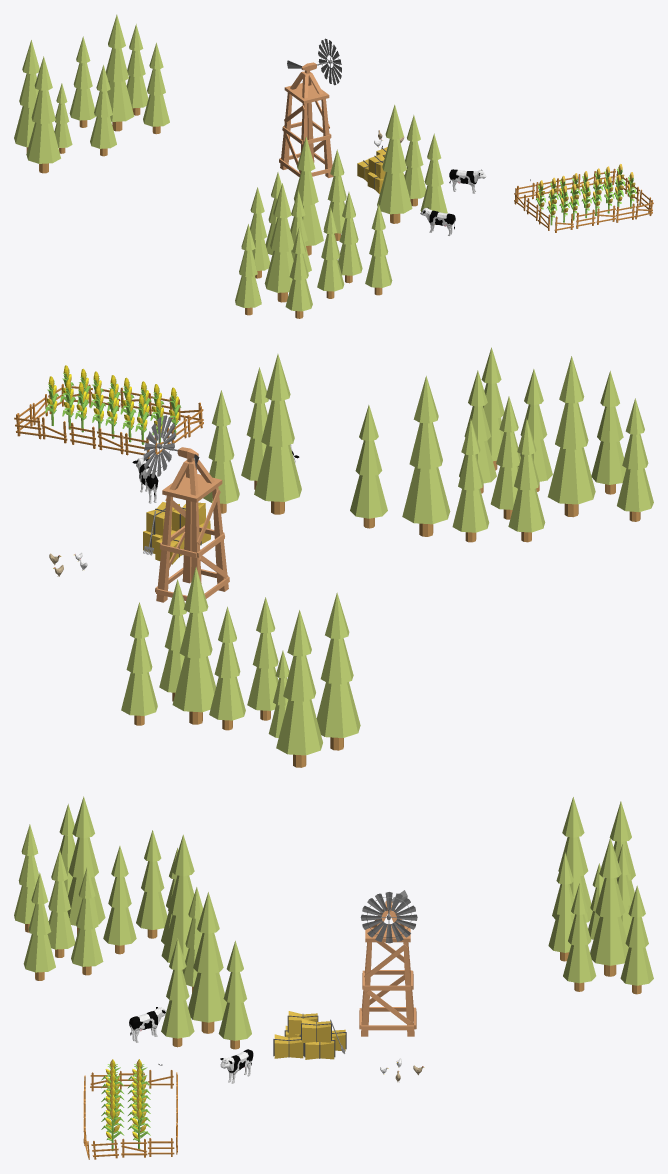
The model's file is SM_Farm.fbx.
The picture shows the model from 3 angles, top to bottom: view 1: azimuth 30°, elevation 25°; view 2: azimuth 150°, elevation 25°; view 3: azimuth 270°, elevation 25°; orthographic projection. The views are drawn at different scales.
Visible parts, largest first — view 1: Object_32, Object_18, Object_13, Object_8, Object_36, Object_3, Object_6, Object_22, Object_42; view 2: Object_32, Object_18, Object_13, Object_8, Object_36, Object_4, Object_22, Object_6; view 3: Object_32, Object_18, Object_22, Object_6, Object_13, Object_8, Object_36, Object_4, Object_3, Object_42.
Boxes of the visible parts, x1,y1,x2,y2 form: Object_32: [14, 14, 447, 311]; Object_18: [279, 62, 333, 177]; Object_13: [514, 168, 653, 232]; Object_8: [536, 167, 636, 225]; Object_36: [26, 108, 435, 318]; Object_3: [537, 164, 635, 215]; Object_6: [287, 38, 341, 85]; Object_22: [357, 147, 404, 193]; Object_42: [423, 169, 482, 228]; Object_32: [121, 347, 653, 755]; Object_18: [155, 447, 229, 602]; Object_13: [14, 384, 203, 458]; Object_8: [45, 369, 181, 444]; Object_36: [134, 460, 640, 767]; Object_4: [46, 365, 179, 432]; Object_22: [143, 502, 210, 564]; Object_6: [143, 415, 199, 478]; Object_32: [14, 796, 653, 1040]; Object_18: [359, 901, 416, 1036]; Object_22: [274, 1011, 345, 1059]; Object_6: [360, 890, 417, 943]; Object_13: [83, 1070, 177, 1159]; Object_8: [101, 1064, 150, 1151]; Object_36: [25, 924, 641, 1049]; Object_4: [106, 1059, 146, 1139]; Object_3: [105, 1059, 146, 1139]; Object_42: [129, 1007, 253, 1072].
Bounding box in the file's own units: 16413 × 5036 × 17987.
